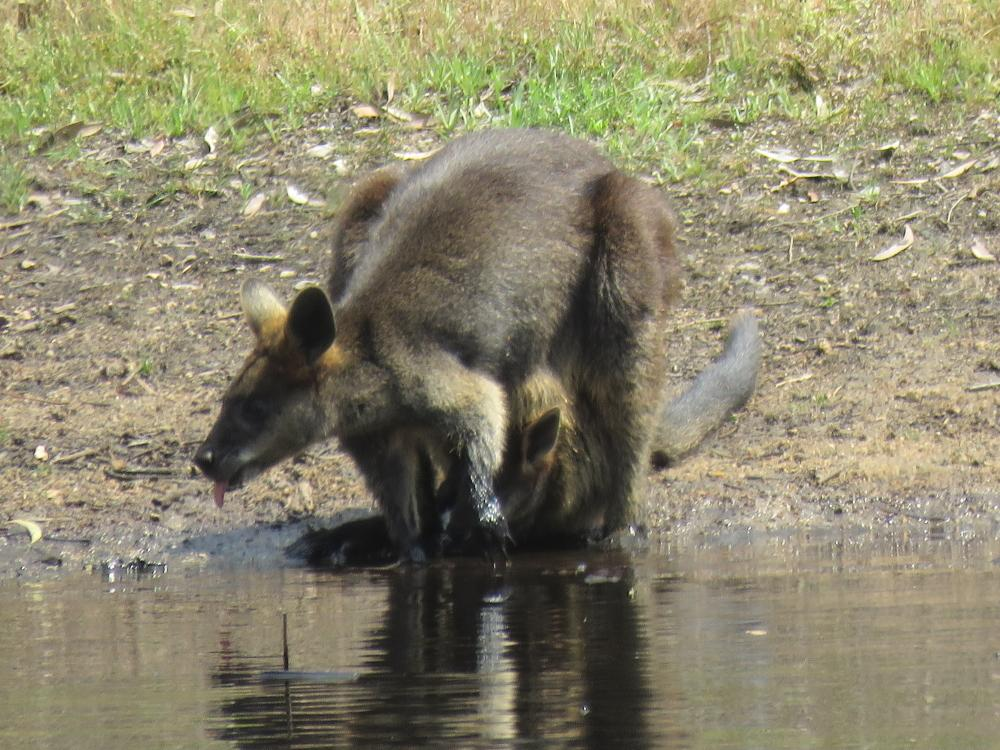Swamp wallaby: (189, 124, 763, 596)
